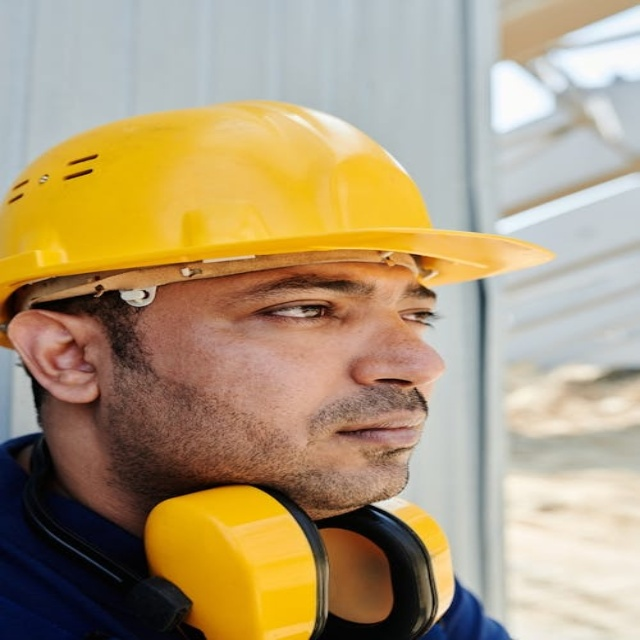Sin_gafas: (229, 271, 445, 340)
Sin_mascara: (301, 395, 426, 465)
